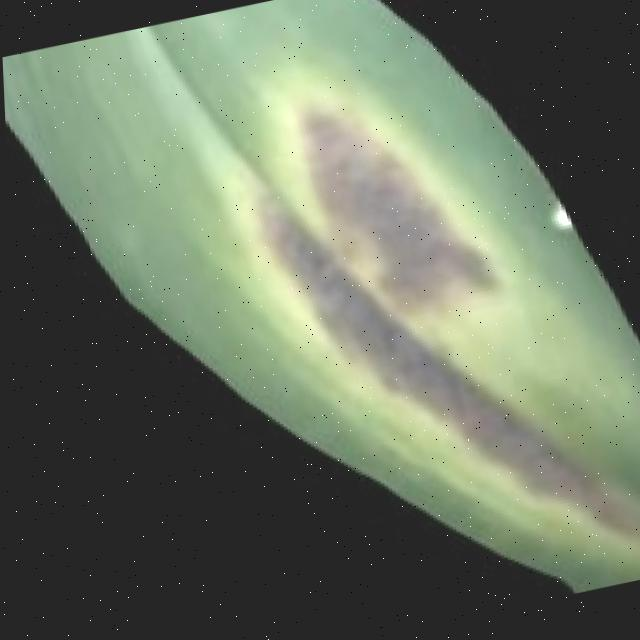mite: (550, 568, 640, 599), (551, 577, 614, 599)
spots: (2, 0, 640, 639)
sunburn: (218, 42, 640, 625)
